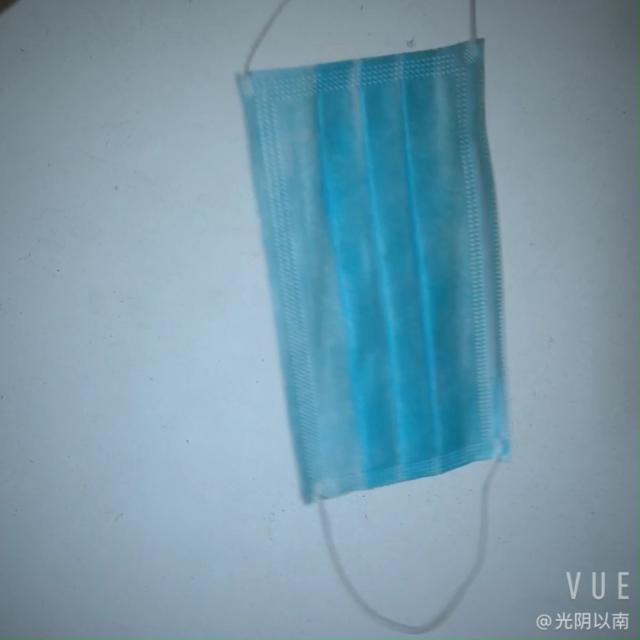non-organic waste: (242, 36, 508, 508)
